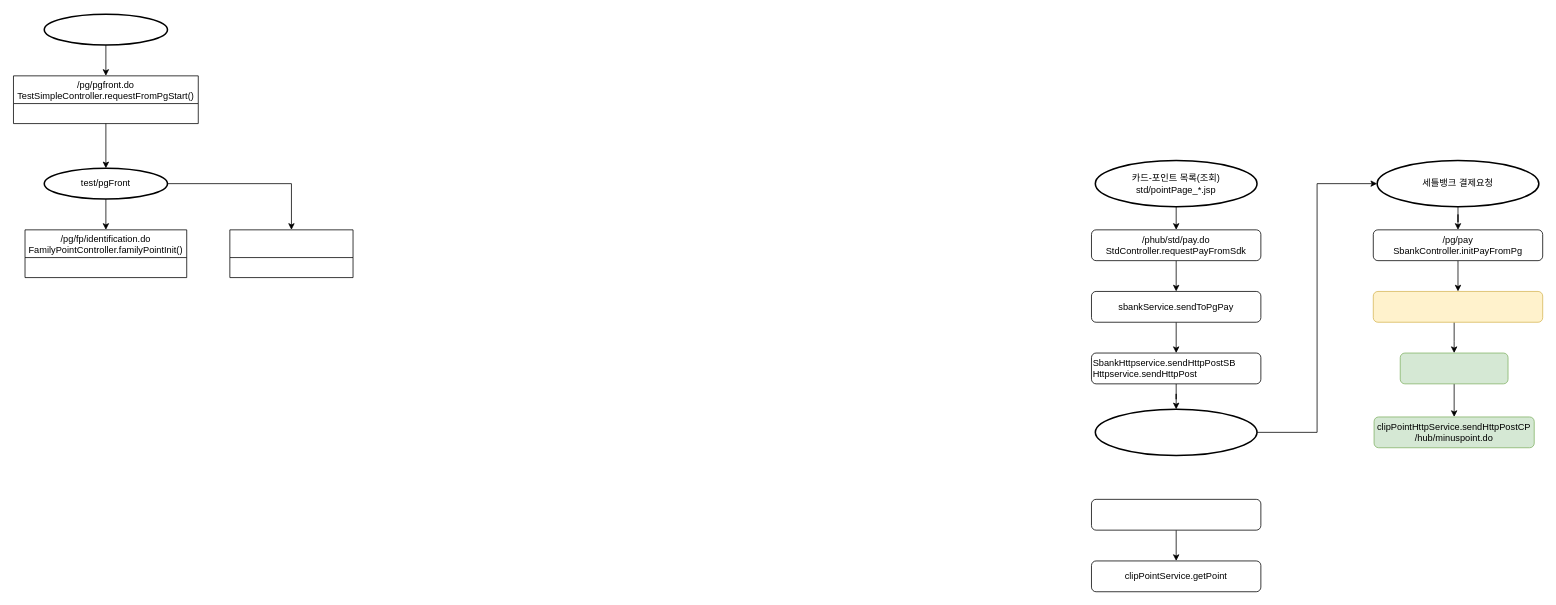
This 1556x605 diagram has some shape labels left out. Here are the shapes that lost their labels. From the top down, the centre of each, then its label:
At (105,29): "거래시작(테스트)".
At (291,253): "/pg/identification.do StdController.identification()".
At (1458,306): "sbankService.requestPayFromPg".
At (1453,368): "clipservice.minuspoint".
At (1175,432): "세틀뱅크 호출".
At (1176,514): "/phub/std/point.do StdController.getPoint".
